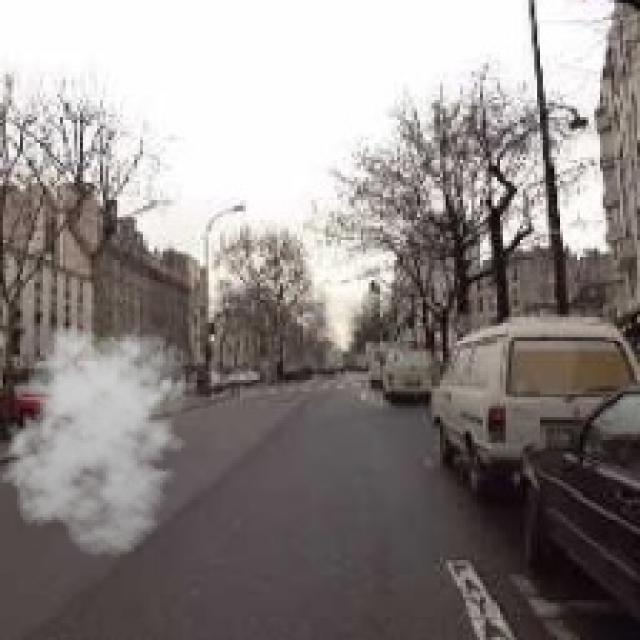Smoke: (0, 317, 200, 557)
